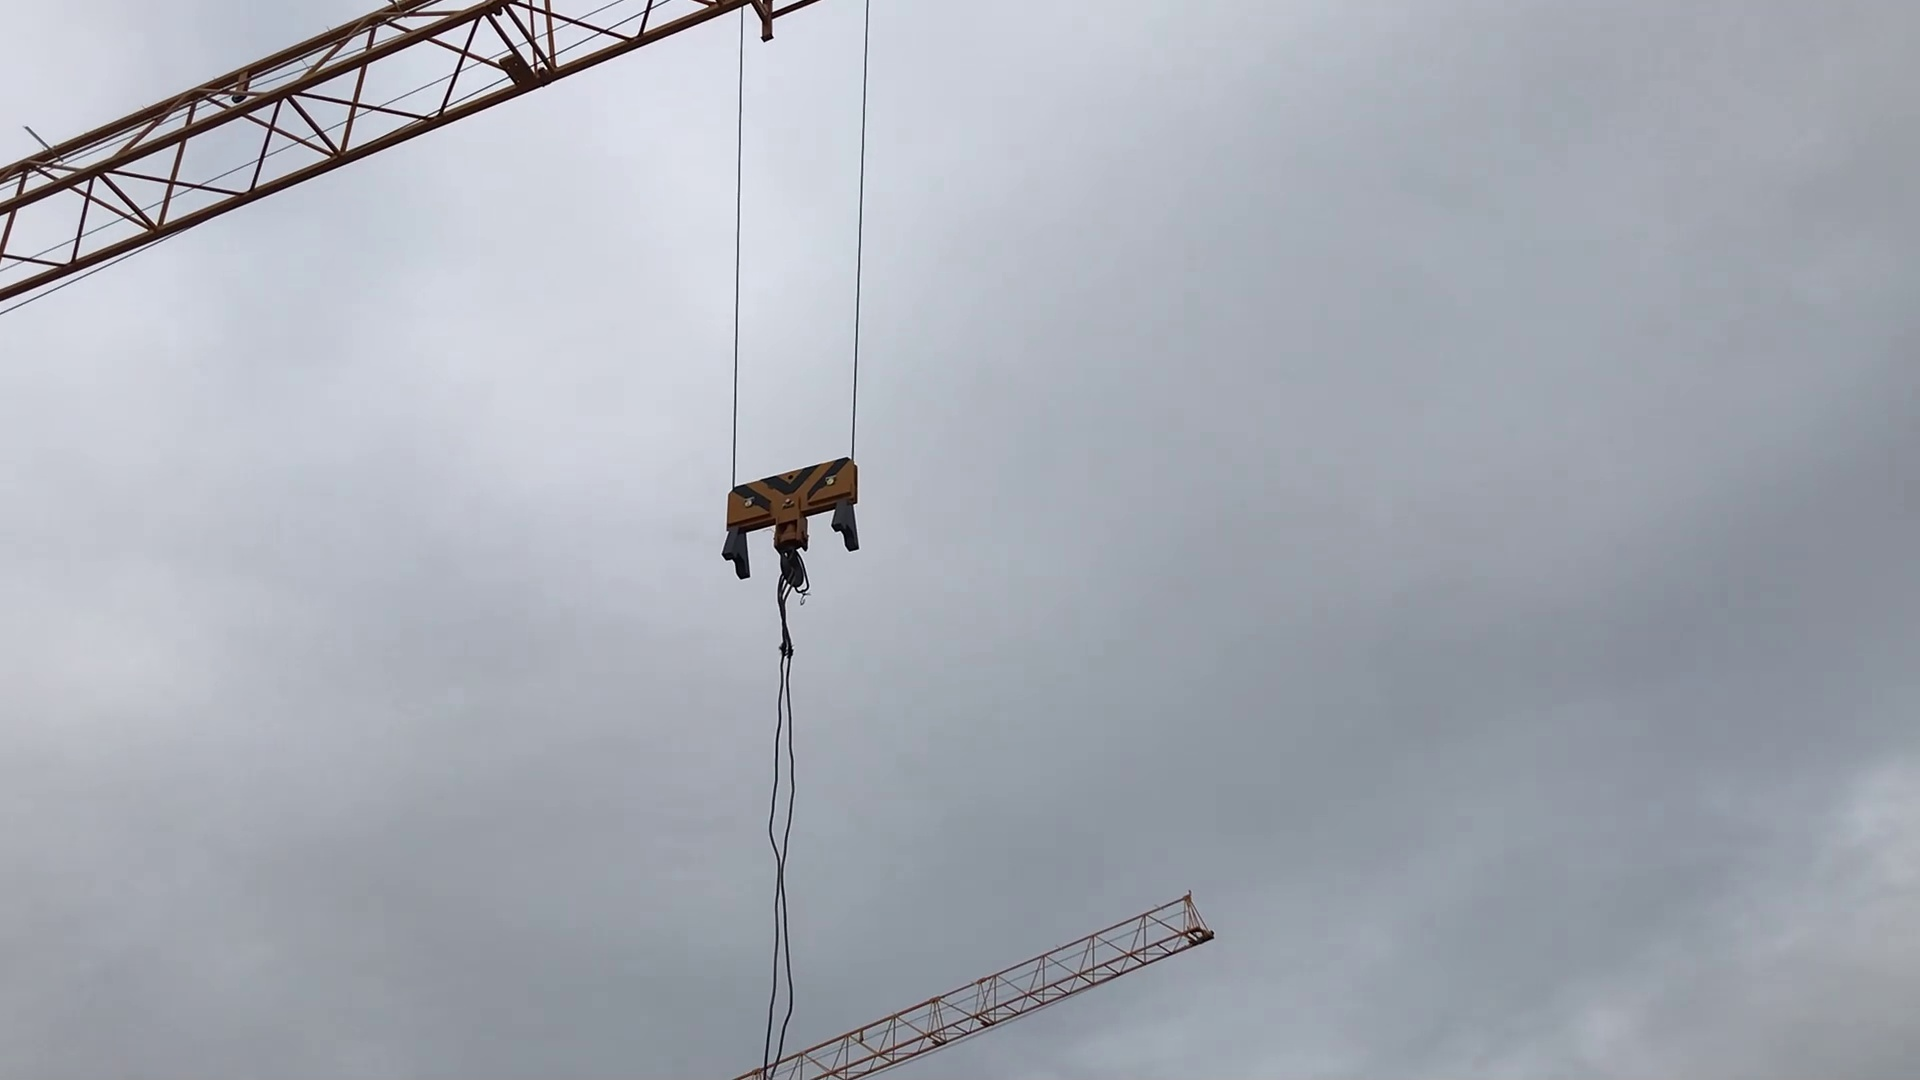hook: (723, 448, 864, 622)
